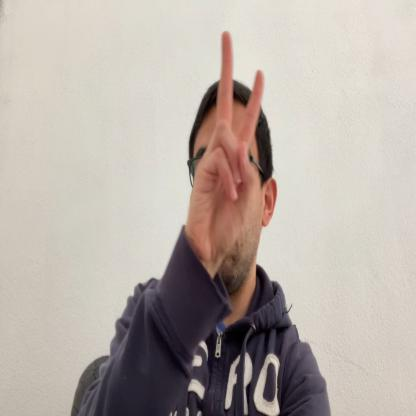V: (187, 29, 265, 268)
